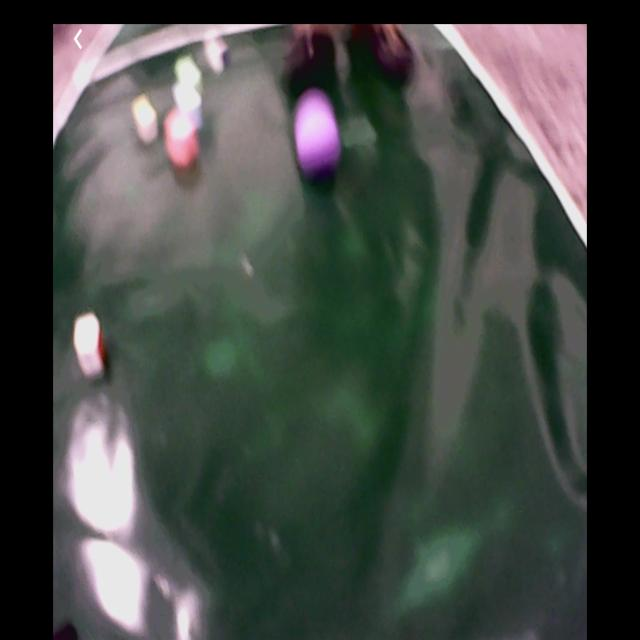ball: (294, 102, 340, 172)
